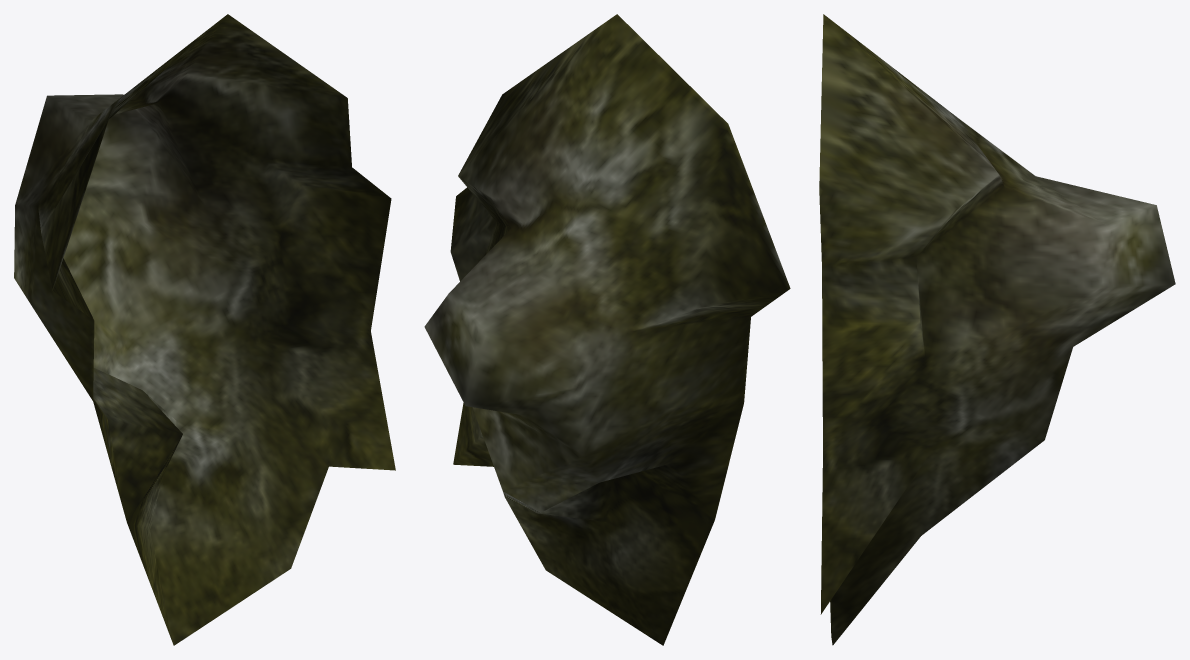
File: MEP_GroundRocks_01_e.fbx
The picture shows the model from 3 angles, left to right: view 1: azimuth 30°, elevation 25°; view 2: azimuth 150°, elevation 25°; view 3: azimuth 270°, elevation 25°; orthographic projection. The views are drawn at different scales.
Visible parts, largest first — view 1: MEP_GroundRock_01_e; view 2: MEP_GroundRock_01_e; view 3: MEP_GroundRock_01_e.
Part boxes in pixels (box(x1,y1,x2,y2)): MEP_GroundRock_01_e: box(14, 14, 395, 645); MEP_GroundRock_01_e: box(424, 14, 790, 645); MEP_GroundRock_01_e: box(819, 14, 1175, 645).
Size of the model in its own units: 1.63 by 2.83 by 1.41.
